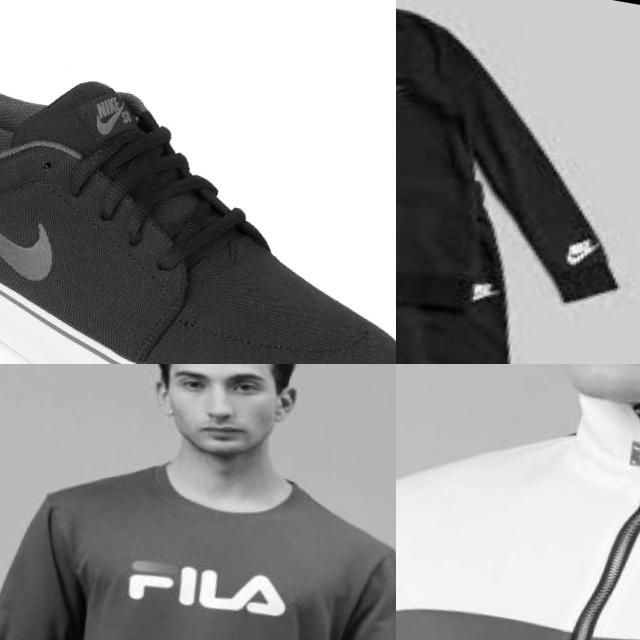FILA_original: (92, 518, 309, 640)
NIKE_original: (0, 153, 84, 323)
